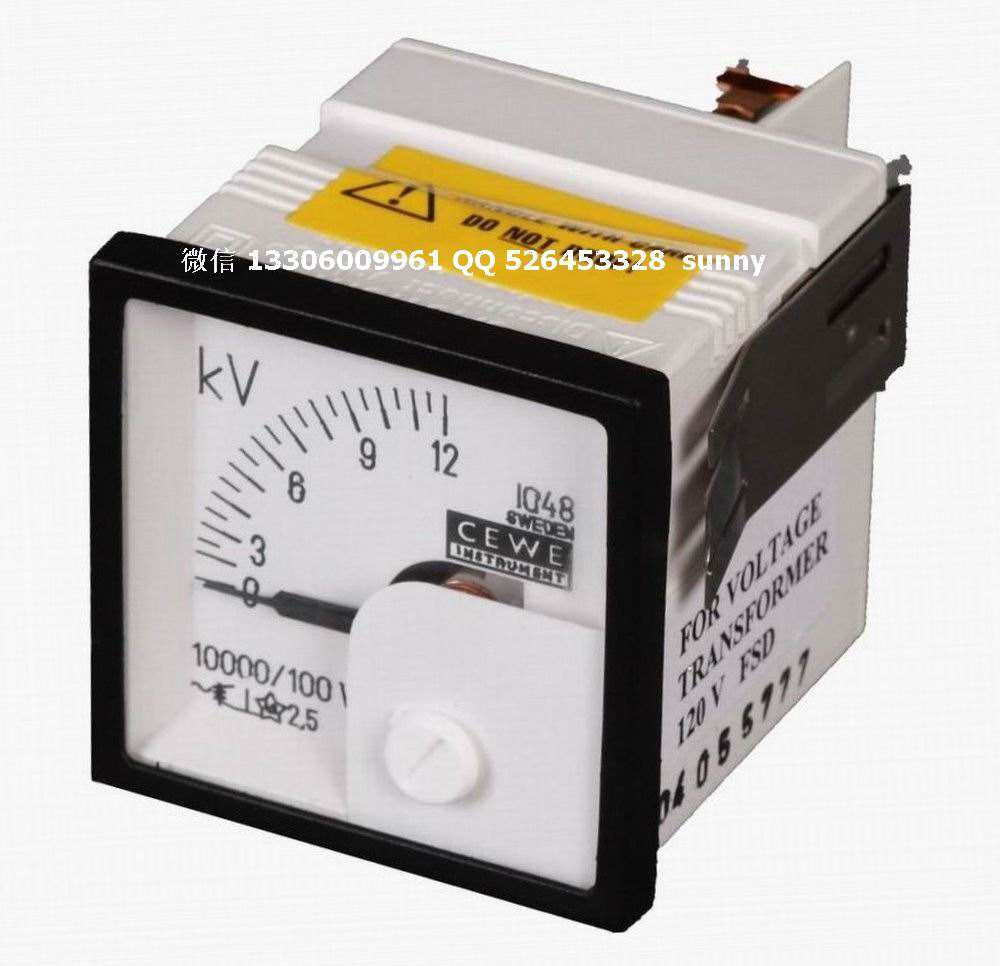pointer: (117, 295, 597, 893)
